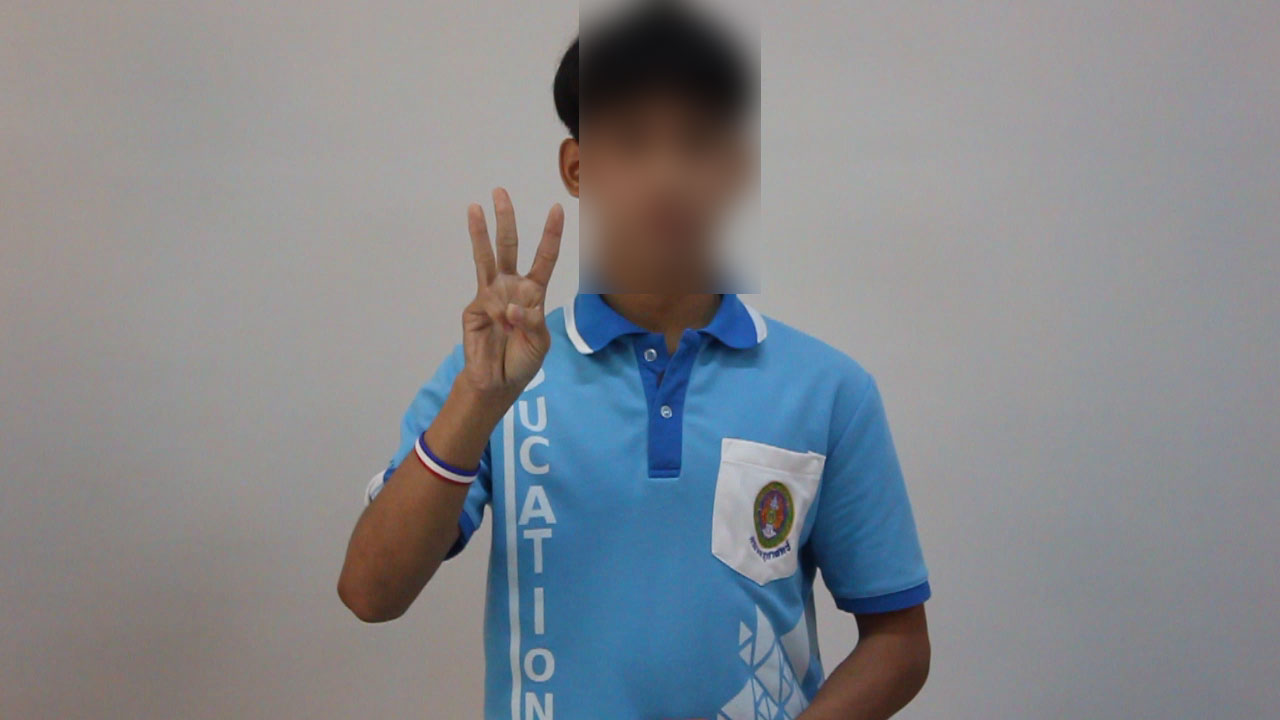wor: (453, 181, 570, 414)
